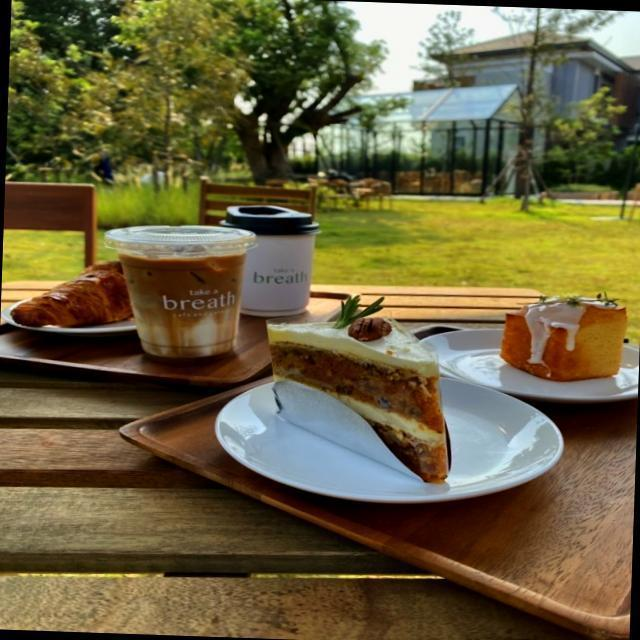cup: (102, 213, 260, 364)
